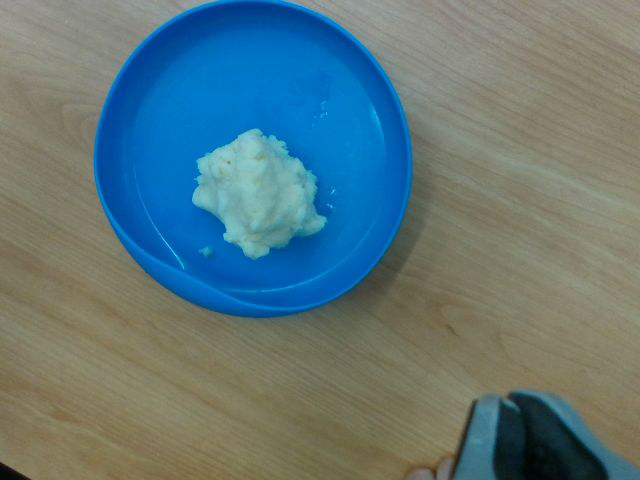mashed_potato: (193, 129, 329, 261)
